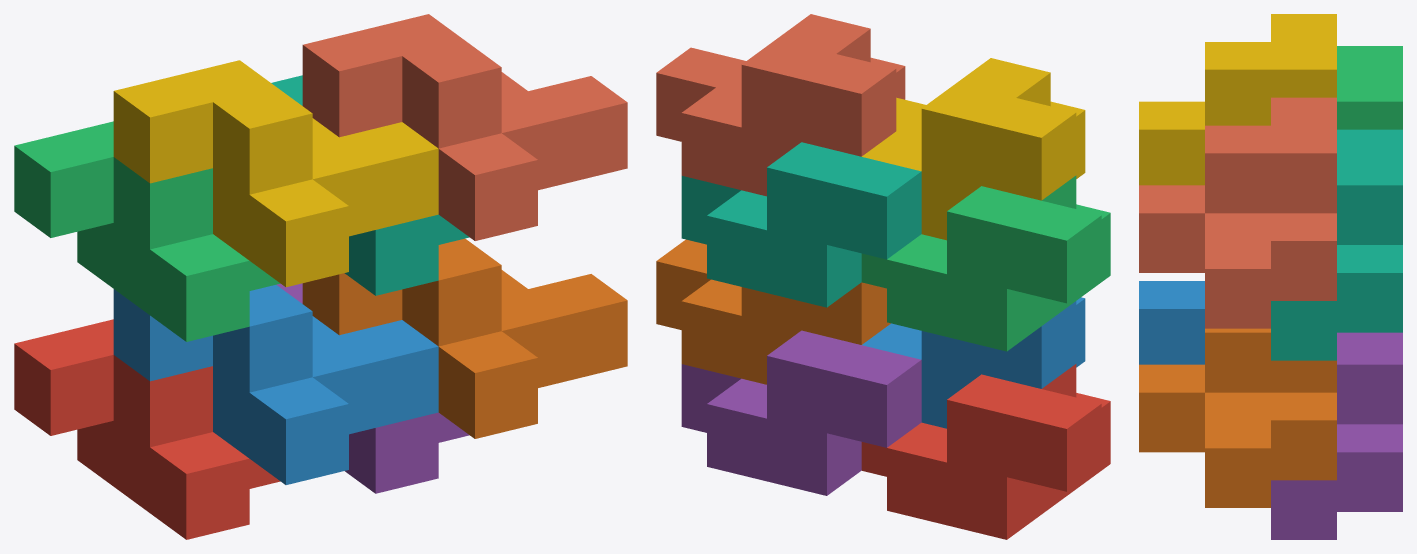
The model's file is tiling.obj.
3 renders of one model, left to right at view 1: azimuth 30°, elevation 25°; view 2: azimuth 150°, elevation 25°; view 3: azimuth 270°, elevation 25°, orthographic. The views are drawn at different scales.
Visible parts, largest first — view 1: copy_1_domain_4, copy_1_domain_8, copy_1_domain_2, copy_1_domain_6, copy_1_domain_1, copy_1_domain_3, copy_1_domain_7, copy_1_domain_5; view 2: copy_1_domain_8, copy_1_domain_3, copy_1_domain_1, copy_1_domain_5, copy_1_domain_7, copy_1_domain_4, copy_1_domain_6, copy_1_domain_2; view 3: copy_1_domain_8, copy_1_domain_6, copy_1_domain_7, copy_1_domain_4, copy_1_domain_5, copy_1_domain_2, copy_1_domain_3.
Part boxes in pixels (<box>): copy_1_domain_4: <box>113,60,438,287</box>; copy_1_domain_8: <box>302,14,627,240</box>; copy_1_domain_2: <box>113,285,438,484</box>; copy_1_domain_6: <box>302,238,627,438</box>; copy_1_domain_1: <box>14,319,280,539</box>; copy_1_domain_3: <box>14,121,280,341</box>; copy_1_domain_7: <box>271,75,469,295</box>; copy_1_domain_5: <box>276,283,469,493</box>; copy_1_domain_8: <box>656,14,905,196</box>; copy_1_domain_3: <box>861,175,1110,351</box>; copy_1_domain_1: <box>861,364,1110,539</box>; copy_1_domain_5: <box>681,330,921,495</box>; copy_1_domain_7: <box>681,142,921,307</box>; copy_1_domain_4: <box>862,58,1085,240</box>; copy_1_domain_6: <box>656,239,890,384</box>; copy_1_domain_2: <box>862,297,1085,428</box>; copy_1_domain_8: <box>1139,97,1336,328</box>; copy_1_domain_6: <box>1139,328,1336,507</box>; copy_1_domain_7: <box>1271,129,1402,360</box>; copy_1_domain_4: <box>1139,14,1336,185</box>; copy_1_domain_5: <box>1271,332,1402,539</box>; copy_1_domain_2: <box>1139,281,1204,364</box>; copy_1_domain_3: <box>1337,46,1402,129</box>.
Size of the model in its own units: 8 by 6 by 4.
